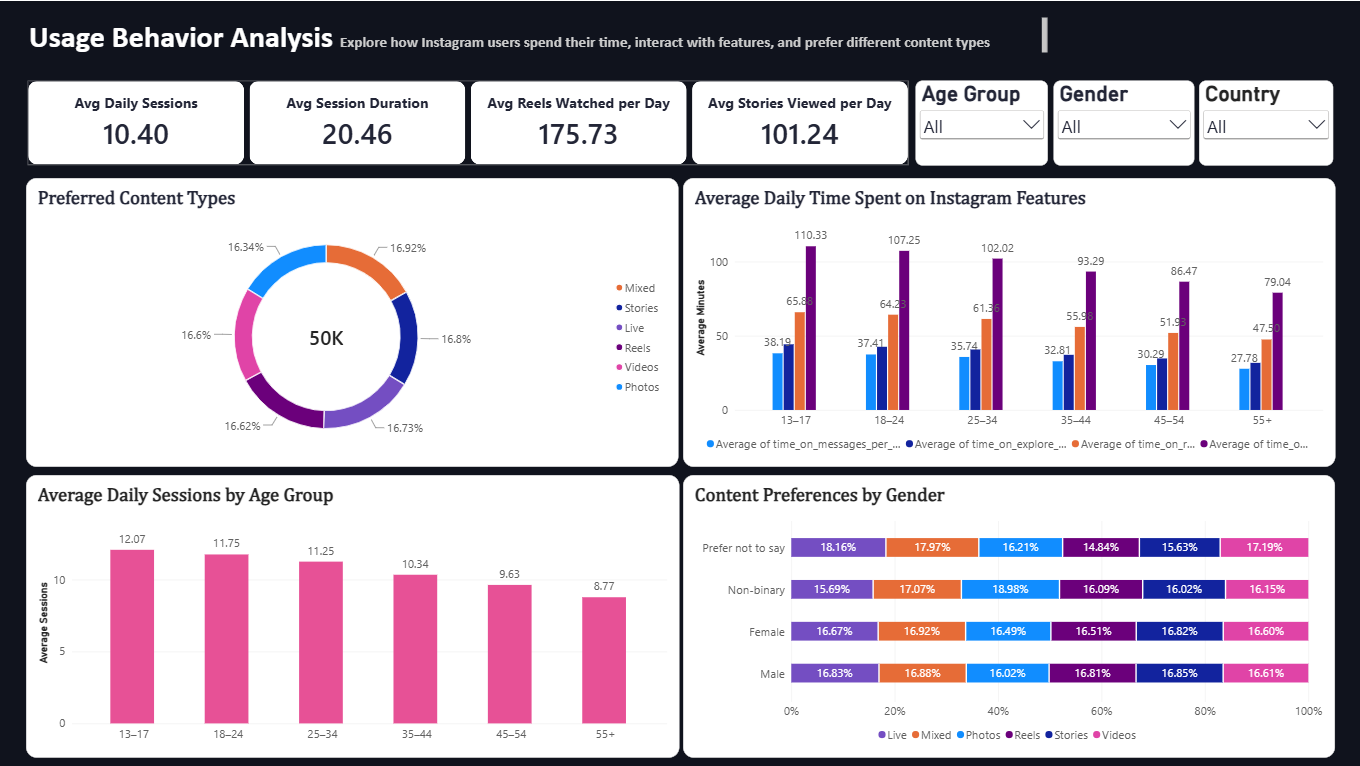

This screenshot's page, from the dashboard's own definition file:
{"tool":"powerbi","page":{"name":"04 - Usage Behavior Analysis","canvas":[1920,1080],"ordinal":3},"visuals":[{"type":"cardVisual","fields":{"Data":["InstagramUsers.Avg Daily Sessions","Avg(InstagramUsers.average_session_length_minutes)","InstagramUsers.Avg Reels Watched","Avg(InstagramUsers.stories_viewed_per_day)"]},"box":[40.7,112.6,1243.8,119.8],"z":0},{"type":"slicer","fields":{"Values":["InstagramUsers.gender"]},"box":[1485.8,112.6,198.9,119.8],"z":1000},{"type":"slicer","fields":{"Values":["InstagramUsers.age_group"]},"box":[1291.7,112.6,186.9,119.8],"z":2000},{"type":"textbox","box":[42.3,23.3,1436,50.8],"z":3000},{"type":"donutChart","title":"Preferred Content Types","fields":{"Category":["InstagramUsers.content_type_preference"],"Y":["Count(InstagramUsers.user_id)"]},"box":[38.3,249.2,920.3,407.4],"z":4000},{"type":"clusteredColumnChart","title":"Average Daily Time Spent on Instagram Features ","fields":{"Category":["InstagramUsers.age_group"],"Y":["Avg(InstagramUsers.time_on_messages_per_day)","Avg(InstagramUsers.time_on_explore_per_day)","Avg(InstagramUsers.time_on_reels_per_day)","Avg(InstagramUsers.time_on_feed_per_day)"]},"box":[963.4,249.2,920.3,407.4],"z":5000},{"type":"clusteredColumnChart","title":"Average Daily Sessions by Age Group","fields":{"Category":["InstagramUsers.age_group"],"Y":["Avg(InstagramUsers.sessions_per_day)"]},"box":[37.5,668.2,921.4,398.6],"z":6000},{"type":"hundredPercentStackedBarChart","title":"Content Preferences by Gender","fields":{"Category":["InstagramUsers.gender"],"Series":["InstagramUsers.content_type_preference"],"Y":["Count(InstagramUsers.user_id)"]},"box":[963.6,668.2,919,398.6],"z":7000},{"type":"slicer","title":"Country ","fields":{"Values":["InstagramUsers.country"]},"box":[1691.9,112.6,189.3,119.8],"z":8000}]}

Visuals, with their boxes in screenshot pixels (x1, y1, x2, y2), scaled from the page's 1920x1080 canvas onto the 1360x766 screenshot:
cardVisual - InstagramUsers.Avg Daily Sessions x Avg(InstagramUsers.average_session_length_minutes): detection(29, 80, 910, 165)
slicer - InstagramUsers.gender: detection(1052, 80, 1193, 165)
slicer - InstagramUsers.age_group: detection(915, 80, 1047, 165)
textbox: detection(30, 17, 1047, 53)
"Preferred Content Types" donutChart: detection(27, 177, 679, 466)
"Average Daily Time Spent on Instagram Features " clusteredColumnChart: detection(682, 177, 1334, 466)
"Average Daily Sessions by Age Group" clusteredColumnChart: detection(27, 474, 679, 757)
"Content Preferences by Gender" hundredPercentStackedBarChart: detection(683, 474, 1334, 757)
"Country " slicer: detection(1198, 80, 1333, 165)
